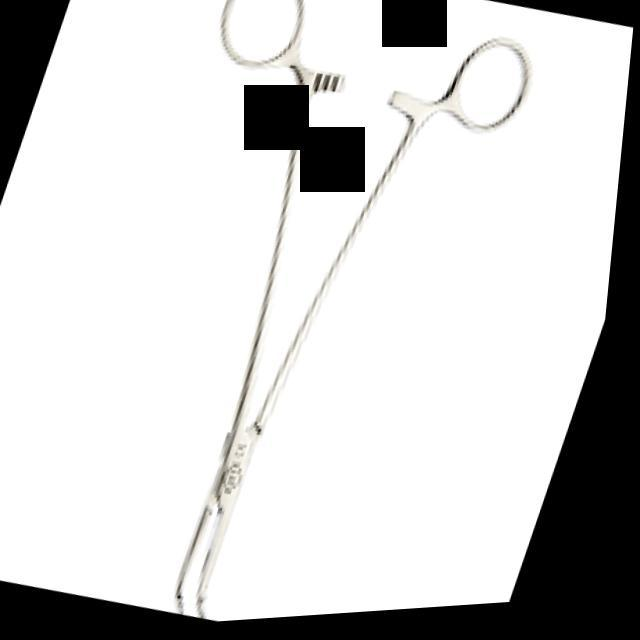Artery Forceps: (27, 0, 564, 636)
